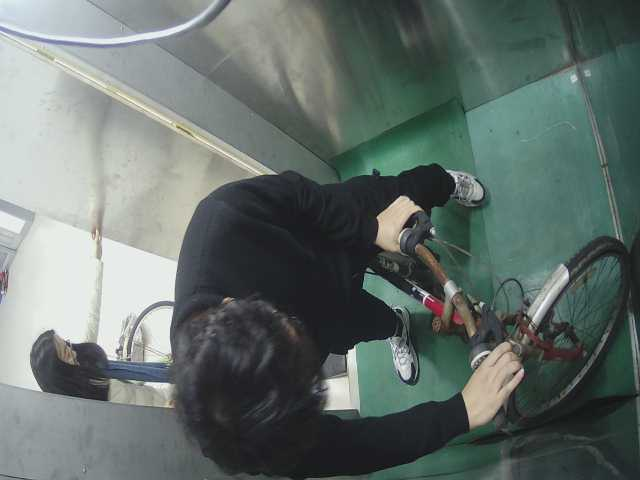bicycle: (354, 182, 624, 440), (108, 296, 179, 381)
person: (169, 162, 494, 476), (29, 317, 157, 407)
